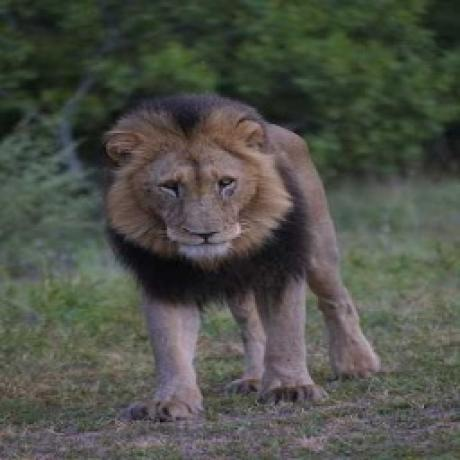Lion: (101, 89, 383, 422)
